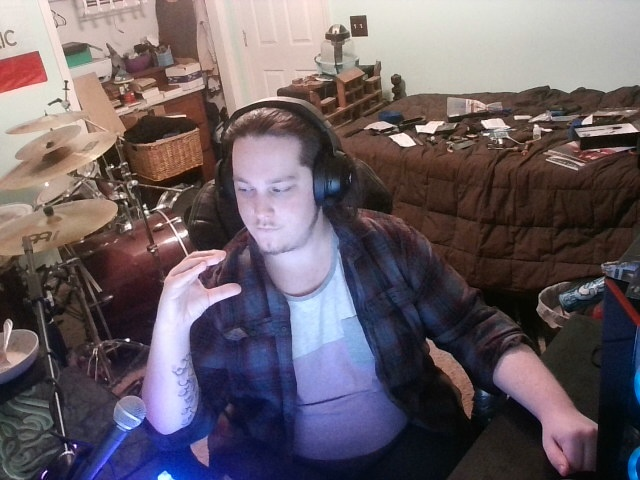drink: (135, 229, 255, 341)
